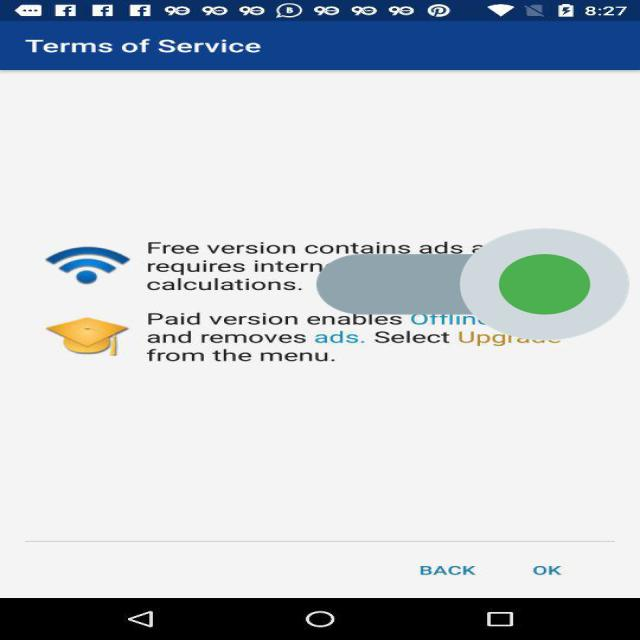social proof: (316, 181, 630, 388)
